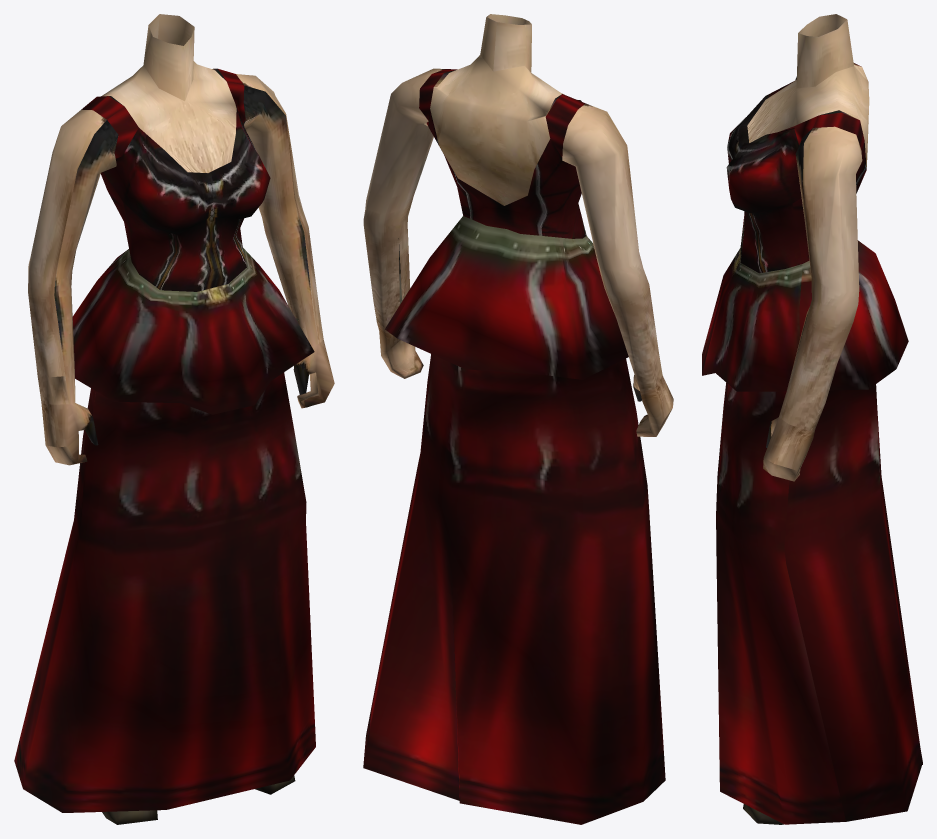
File: SUKNIAN.glb
The picture shows the model from 3 angles, left to right: view 1: azimuth 30°, elevation 25°; view 2: azimuth 150°, elevation 25°; view 3: azimuth 270°, elevation 25°; orthographic projection.
Visible parts, largest first — view 1: SUKNIAN; view 2: SUKNIAN; view 3: SUKNIAN.
Part boxes in pixels (<box>): SUKNIAN: <box>14,14,334,824</box>; SUKNIAN: <box>363,14,673,824</box>; SUKNIAN: <box>702,14,922,824</box>.
Size of the model in its own units: 0.6473 by 1.68 by 0.4406.
Materials: 2 (2 with a texture image).
